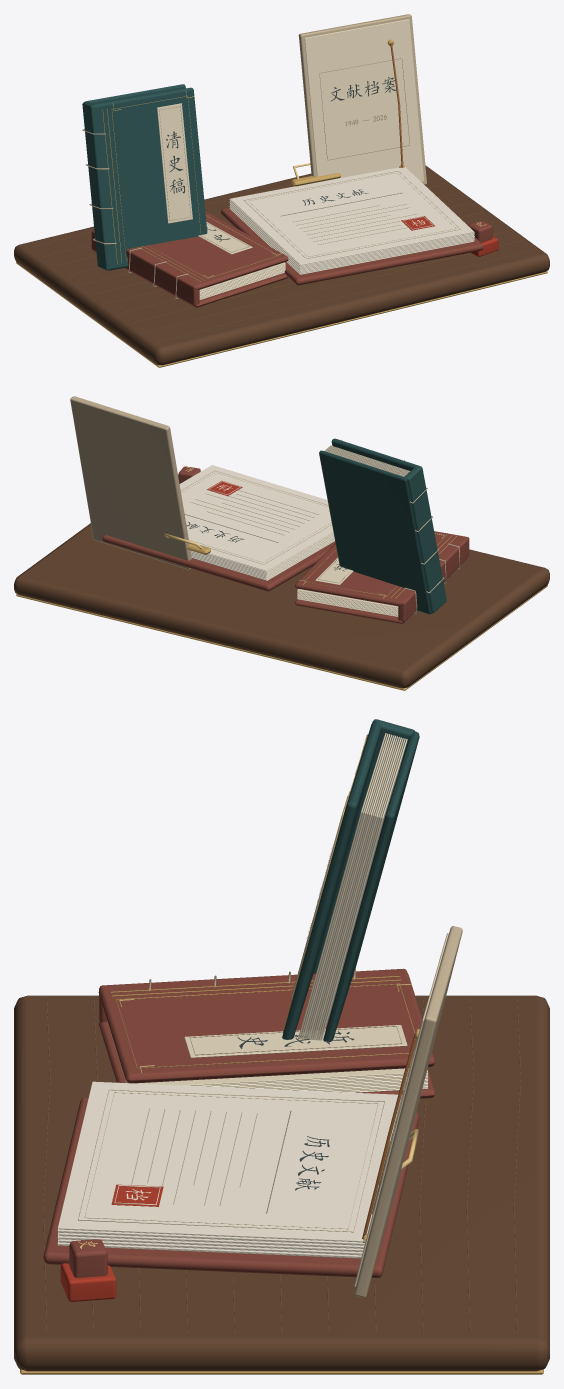
The model's file is modern-archive.glb.
3 views of the same model, one above another, from view 1: azimuth 30°, elevation 25°; view 2: azimuth 150°, elevation 25°; view 3: azimuth 270°, elevation 25° (orthographic). The views are drawn at different scales.
Parts seen in each view (by area): view 1: Walnut display tray, Archive folder facing, Archival sheet 16, Qing historical volume front board, Republic historical volume front board, Qing historical volume title slip, Walnut archive backing, Qing historical volume cloth spine, Archive folder board, Republic historical volume cloth spine, Lower bronze rim, Republic historical volume lower board (+3 smaller); view 2: Walnut display tray, Archive folder board, Archival sheet 16, Qing historical volume lower board, Republic historical volume front board, Qing historical volume cloth spine, Walnut archive backing, Lower bronze rim, Republic historical volume cloth spine, Republic historical volume lower board, Qing historical volume front board, Republic historical volume title slip (+3 smaller); view 3: Walnut display tray, Archival sheet 16, Republic historical volume front board, Walnut archive backing, Archive folder board, Qing historical volume front board, Republic historical volume title slip, Qing historical volume lower board, Lower bronze rim, Republic historical volume leaf 11, Seal base, Seal handle (+23 smaller).
Boxes of the visible parts, x1,y1,x2,y2 form: Walnut display tray: (14, 165, 549, 365); Archive folder facing: (304, 19, 424, 182); Archival sheet 16: (230, 167, 473, 265); Qing historical volume front board: (93, 87, 207, 270); Republic historical volume front board: (130, 211, 288, 289); Qing historical volume title slip: (157, 103, 192, 223); Walnut archive backing: (221, 207, 483, 285); Qing historical volume cloth spine: (82, 102, 110, 270); Archive folder board: (298, 14, 426, 184); Republic historical volume cloth spine: (91, 230, 199, 305); Lower bronze rim: (16, 262, 547, 367); Republic historical volume lower board: (93, 250, 287, 307); Walnut display tray: (14, 523, 549, 688); Archive folder board: (70, 396, 191, 569); Archival sheet 16: (179, 465, 333, 571); Qing historical volume lower board: (319, 450, 431, 614); Republic historical volume front board: (295, 531, 464, 606); Qing historical volume cloth spine: (404, 466, 446, 613); Walnut archive backing: (102, 535, 335, 591); Lower bronze rim: (16, 585, 547, 690); Republic historical volume cloth spine: (398, 536, 469, 621); Republic historical volume lower board: (295, 574, 451, 623); Qing historical volume front board: (331, 438, 418, 470); Republic historical volume title slip: (315, 557, 353, 584); Walnut display tray: (14, 995, 549, 1371); Archival sheet 16: (57, 1081, 401, 1241); Republic historical volume front board: (98, 970, 435, 1083); Walnut archive backing: (43, 1097, 419, 1277); Archive folder board: (354, 926, 462, 1297); Qing historical volume front board: (282, 721, 381, 1039); Republic historical volume title slip: (184, 1025, 407, 1057); Qing historical volume lower board: (323, 731, 419, 1041); Lower bronze rim: (20, 1369, 543, 1374); Republic historical volume leaf 11: (135, 1068, 427, 1085); Seal base: (60, 1263, 116, 1301); Seal handle: (69, 1239, 107, 1277).
Size of the model in its own units: 5.6 by 2.5 by 3.6.
